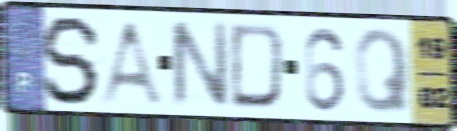6: (302, 23, 348, 115)
A: (96, 18, 165, 108)
D: (228, 21, 288, 113)
N: (166, 19, 232, 111)
Q: (352, 26, 413, 116)
S: (38, 13, 106, 108)
